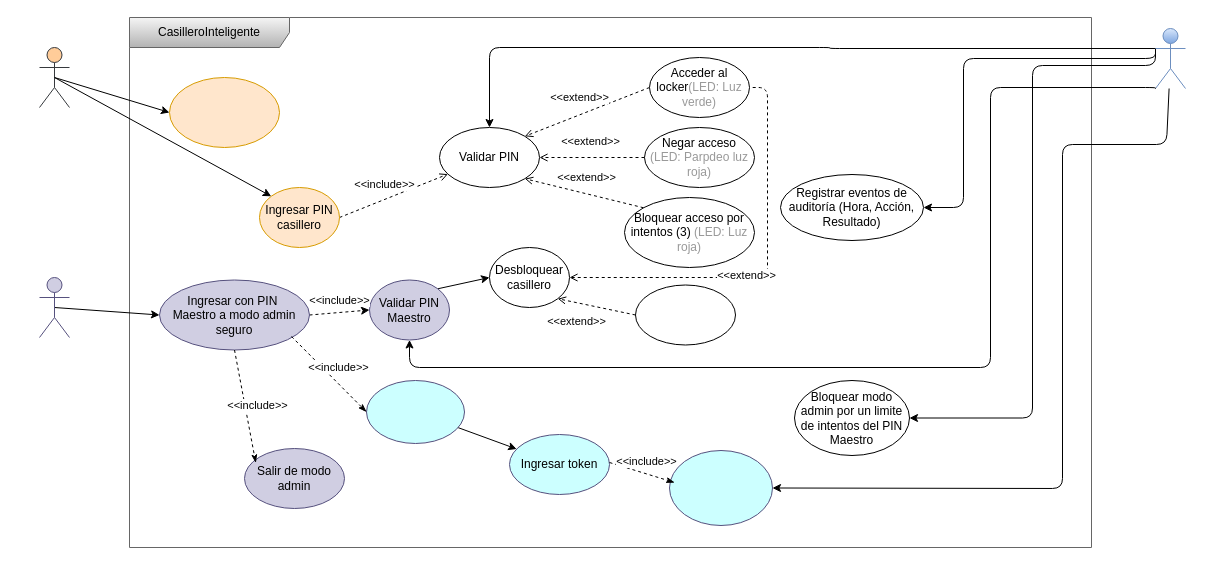
Image size: 1208x565. Some labels were removed from this diagram. The centre of each missing label's shape, as x and y in pixels:
Administrador: pixel 54 307
AppIOT: pixel 1170 58
Estudiante: pixel 54 77
Genera token de acceso: pixel 415 412
Registrar PIN casillero (5 digitos): pixel 224 112
Restablecer PIN de usuario: pixel 685 314
Validar token desde app y Autorizar o Bloquear: pixel 720 488
